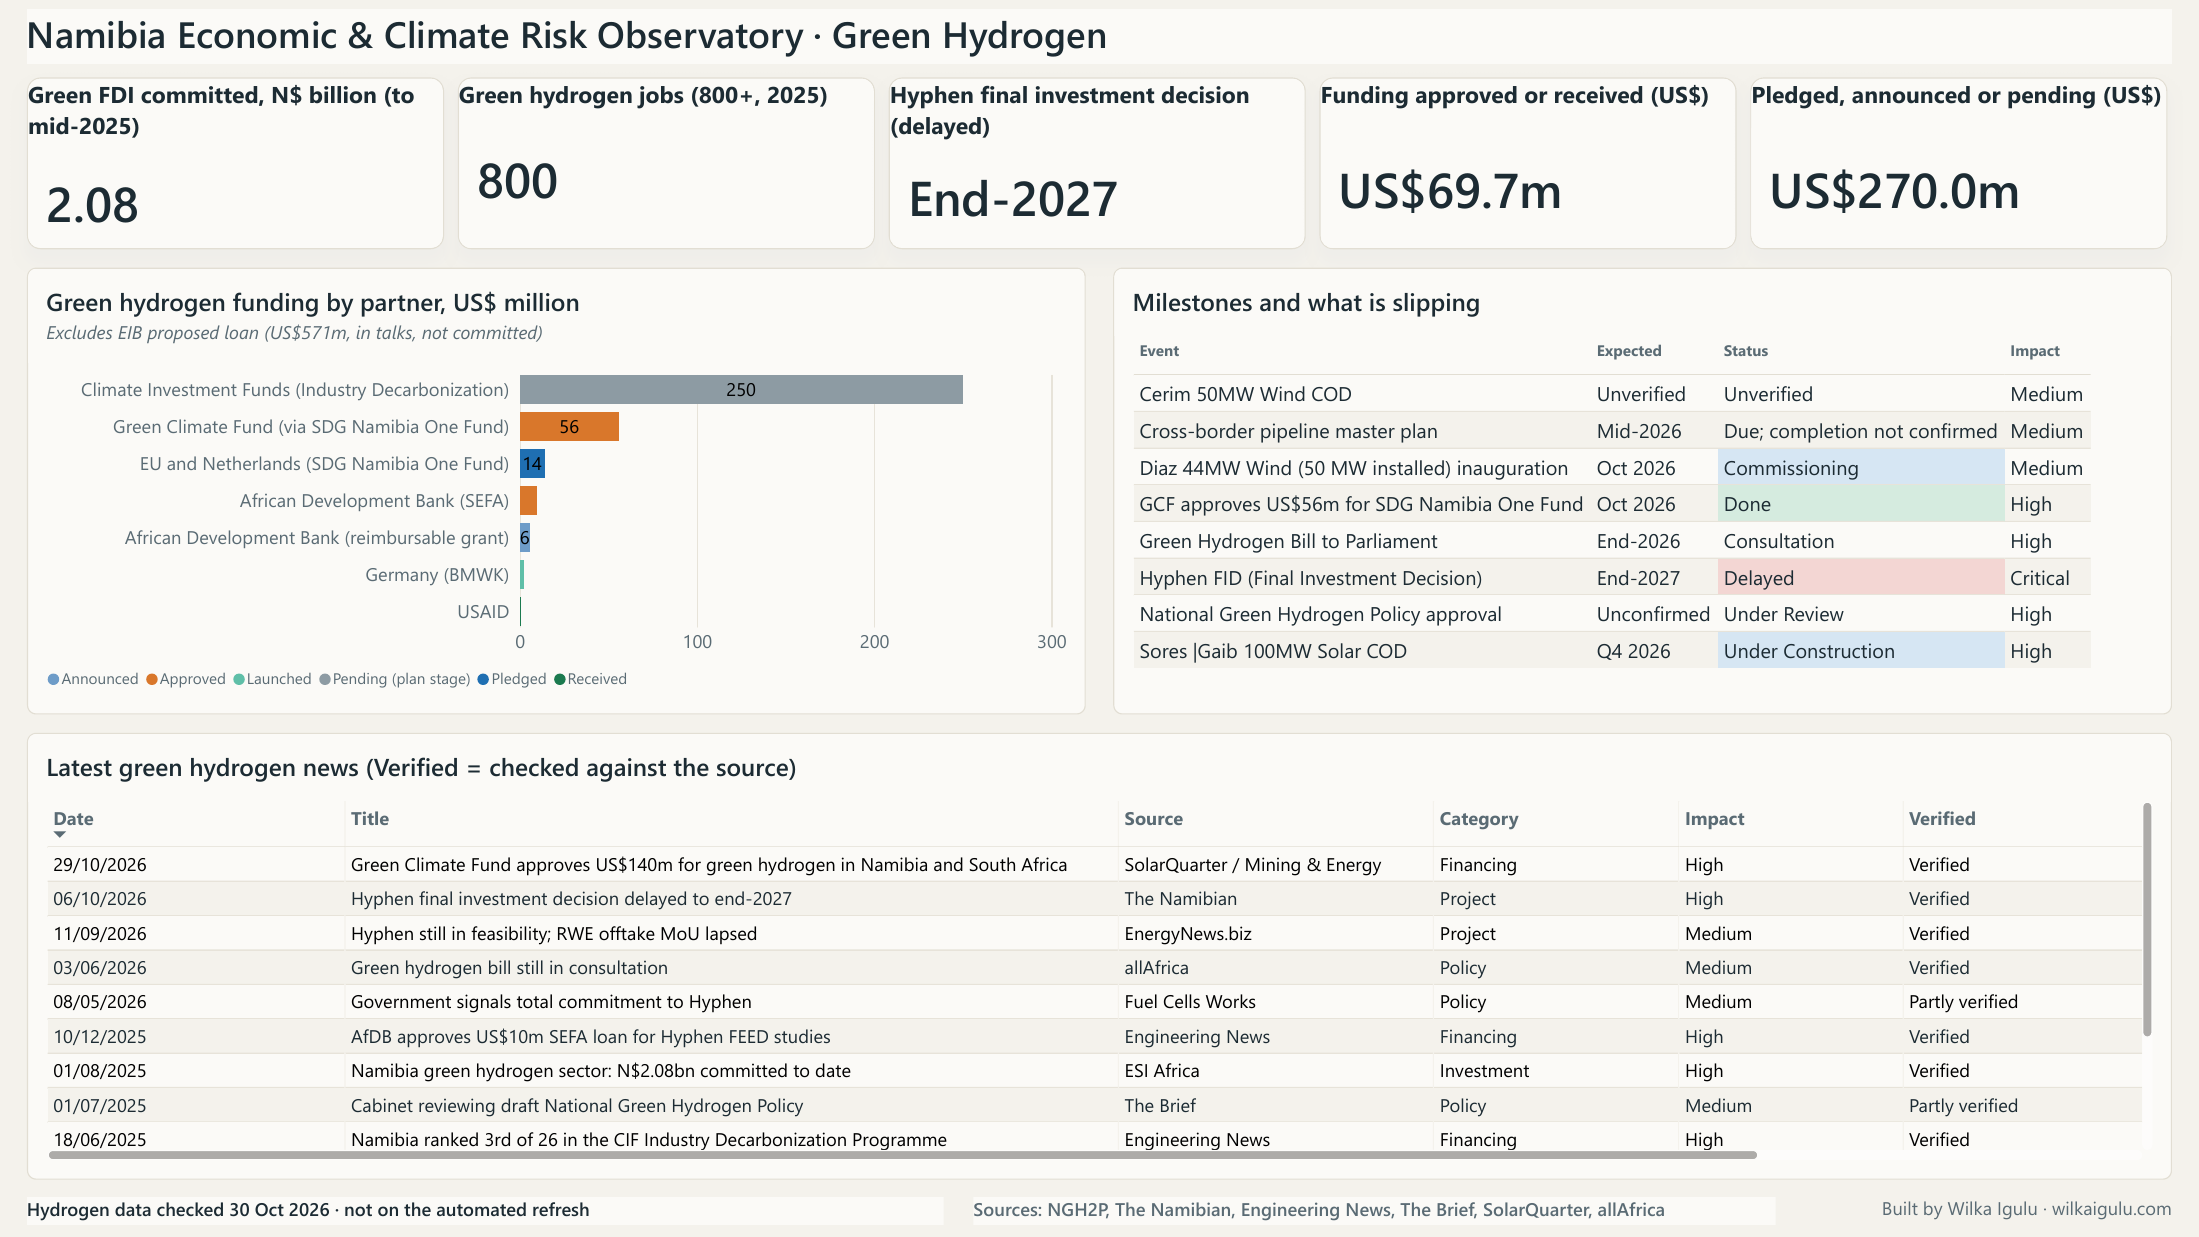

This screenshot's page, from the dashboard's own definition file:
{"tool":"powerbi","page":{"name":"Green Hydrogen","canvas":[1920,1080],"ordinal":3},"visuals":[{"type":"cardVisual","title":"Green hydrogen jobs (800+, 2025)","fields":{"Data":["Sum(kpi_summary.Current_Value)"]},"box":[400,68,364,150],"z":0},{"type":"cardVisual","title":"Hyphen final investment decision (delayed)","fields":{"Data":["Min(milestones.Expected_Date)"]},"box":[776,68,364,150],"z":1000},{"type":"cardVisual","title":"Funding approved or received (US$)","fields":{"Data":["Measure Table.Funding Secured (US$m)"]},"box":[1152,68,364,150],"z":2000},{"type":"textbox","title":"Namibia Economic & Climate Risk Observatory ·  Green Hydrogen","box":[24,8,1872,48],"z":3000},{"type":"cardVisual","title":"Hydrogen data checked 30 Oct 2026 · not on the automated refresh","fields":{"Data":["Measure Table.Data As Of"]},"box":[24,1045,800,24],"z":4000},{"type":"textbox","title":"Built by Wilka Igulu · wilkaigulu.com","box":[1200,1044,696,36],"z":5000},{"type":"textbox","title":"Sources: NGH2P, The Namibian, Engineering News, The Brief, SolarQuarter, allAfrica","box":[850,1045,700,24],"z":6000},{"type":"cardVisual","title":"Pledged, announced or pending (US$)","fields":{"Data":["Measure Table.Funding Pending (US$m)"]},"box":[1528,68,364,150],"z":8000},{"type":"cardVisual","title":"Green FDI committed, N$ billion (to mid-2025)","fields":{"Data":["Sum(kpi_summary.Current_Value)"]},"box":[24,68,364,150],"z":9000},{"type":"barChart","title":"Green hydrogen funding by partner, US$ million","fields":{"Category":["green_fdi_funding.Partner"],"Series":["green_fdi_funding.Status"],"Y":["Sum(green_fdi_funding.Amount_USD_Million)"]},"box":[24,234,924,390],"z":10000},{"type":"tableEx","title":"Milestones and what is slipping","fields":{"Values":["milestones.Event","milestones.Expected_Date","milestones.Status","milestones.Impact"]},"box":[972,234,924,390],"z":10001},{"type":"tableEx","title":"Latest green hydrogen news (Verified = checked against the source)","fields":{"Values":["hydrogen_announcements.Date","hydrogen_announcements.Title","hydrogen_announcements.Source","hydrogen_announcements.Category","hydrogen_announcements.Impact","hydrogen_announcements.Verified"]},"box":[24,640,1872,390],"z":10002}]}

Visuals, with their boxes in screenshot pixels (x1, y1, x2, y2), scaled from the page's 1920x1080 canvas onto the 2199x1237 screenshot:
"Green hydrogen jobs (800+, 2025)" cardVisual: {"x1": 458, "y1": 78, "x2": 875, "y2": 250}
"Hyphen final investment decision (delayed)" cardVisual: {"x1": 889, "y1": 78, "x2": 1306, "y2": 250}
"Funding approved or received (US$)" cardVisual: {"x1": 1319, "y1": 78, "x2": 1736, "y2": 250}
"Namibia Economic & Climate Risk Observatory ·  Green Hydrogen" textbox: {"x1": 27, "y1": 9, "x2": 2172, "y2": 64}
"Hydrogen data checked 30 Oct 2026 · not on the automated refresh" cardVisual: {"x1": 27, "y1": 1197, "x2": 944, "y2": 1224}
"Built by Wilka Igulu · wilkaigulu.com" textbox: {"x1": 1374, "y1": 1196, "x2": 2172, "y2": 1236}
"Sources: NGH2P, The Namibian, Engineering News, The Brief, SolarQuarter, allAfrica" textbox: {"x1": 974, "y1": 1197, "x2": 1775, "y2": 1224}
"Pledged, announced or pending (US$)" cardVisual: {"x1": 1750, "y1": 78, "x2": 2167, "y2": 250}
"Green FDI committed, N$ billion (to mid-2025)" cardVisual: {"x1": 27, "y1": 78, "x2": 444, "y2": 250}
"Green hydrogen funding by partner, US$ million" barChart: {"x1": 27, "y1": 268, "x2": 1086, "y2": 715}
"Milestones and what is slipping" tableEx: {"x1": 1113, "y1": 268, "x2": 2172, "y2": 715}
"Latest green hydrogen news (Verified = checked against the source)" tableEx: {"x1": 27, "y1": 733, "x2": 2172, "y2": 1180}
